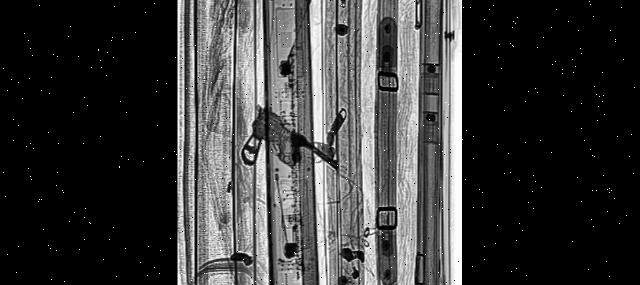Gun: (238, 94, 338, 228)
